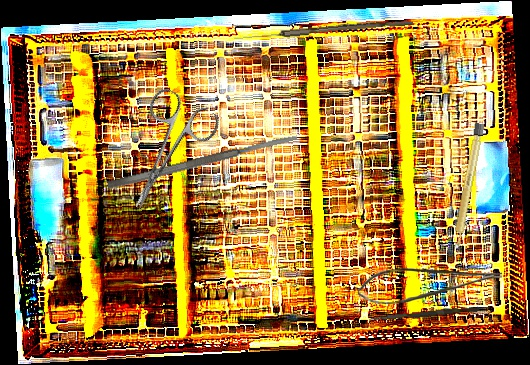Iris Scissors: (103, 84, 224, 224)
Micro Scissor: (358, 267, 502, 306)
Pusher: (368, 304, 480, 325)
Scalpel Handle: (450, 122, 485, 250)
Spatula Surgical: (106, 132, 299, 191)
Surgical Spoon: (234, 16, 413, 44)
